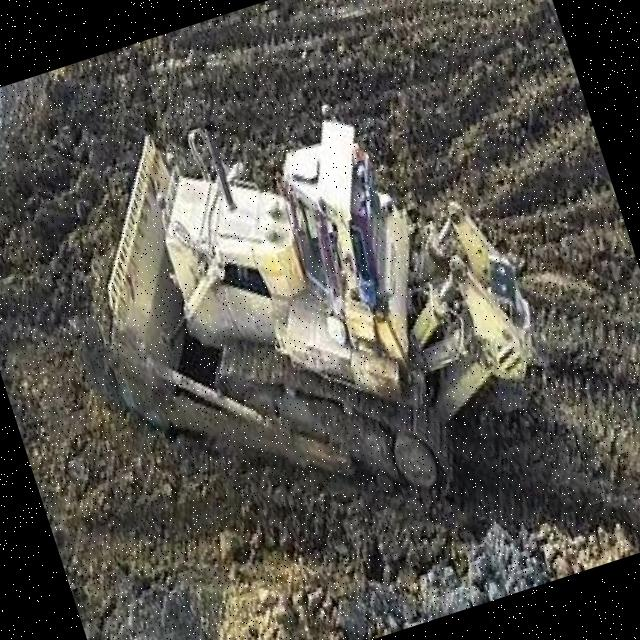Bulldozer: (28, 10, 620, 618)
